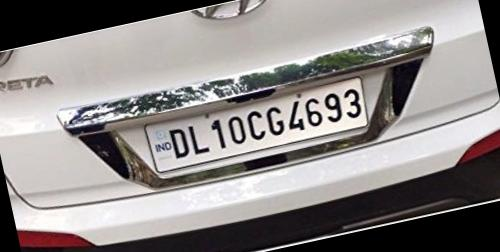plate: (130, 51, 390, 208)
